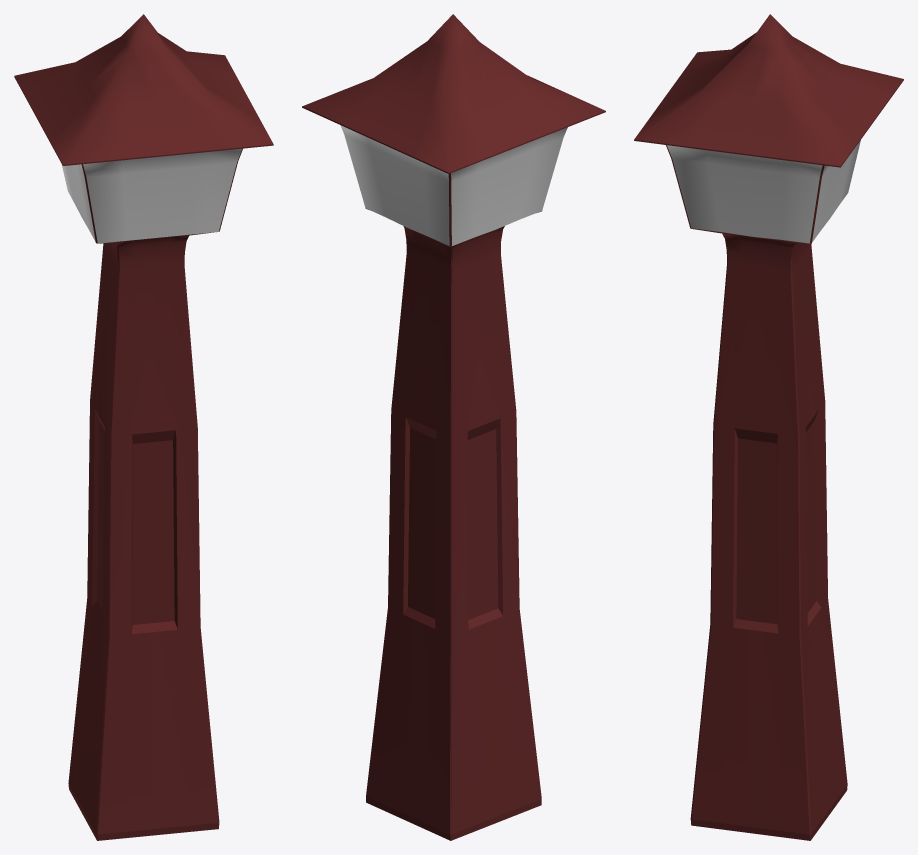
The model's file is Lampadaire.fbx.
The picture shows the model from 3 angles, left to right: view 1: azimuth 30°, elevation 25°; view 2: azimuth 150°, elevation 25°; view 3: azimuth 270°, elevation 25°; orthographic projection.
Parts seen in each view (by area): view 1: Cube.031; view 2: Cube.031; view 3: Cube.031.
Part boxes in pixels (x1,y1,x2,y2): Cube.031: [14, 14, 273, 840]; Cube.031: [302, 14, 605, 840]; Cube.031: [634, 14, 903, 840].
Size of the model in its own units: 296 by 960 by 296.
